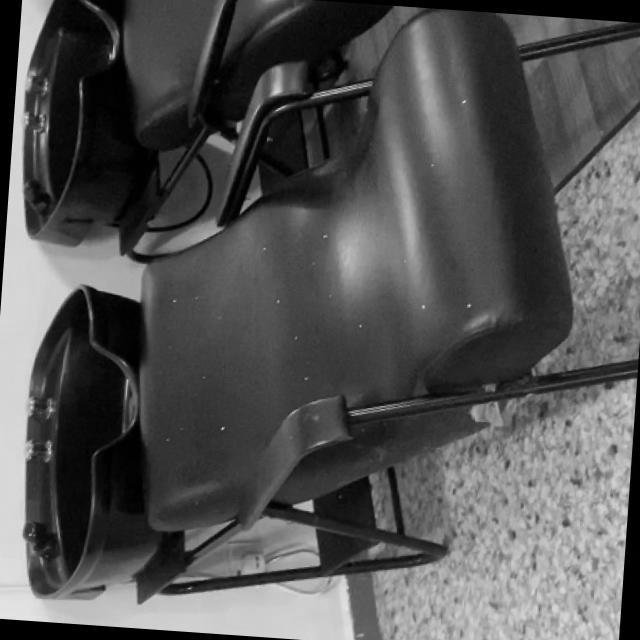chair: (121, 0, 640, 560)
